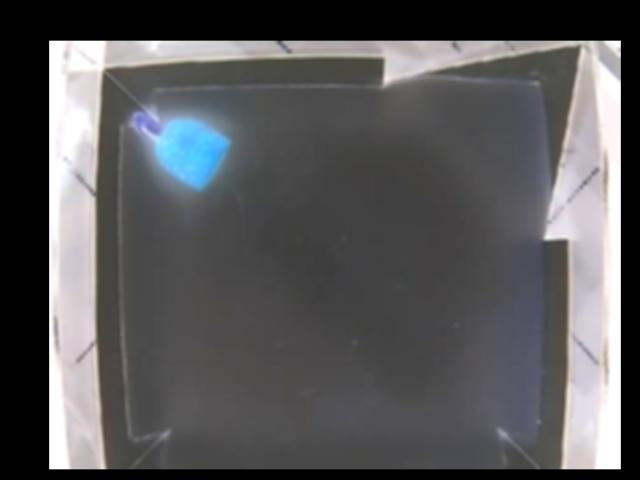Carrot: (128, 107, 228, 193)
